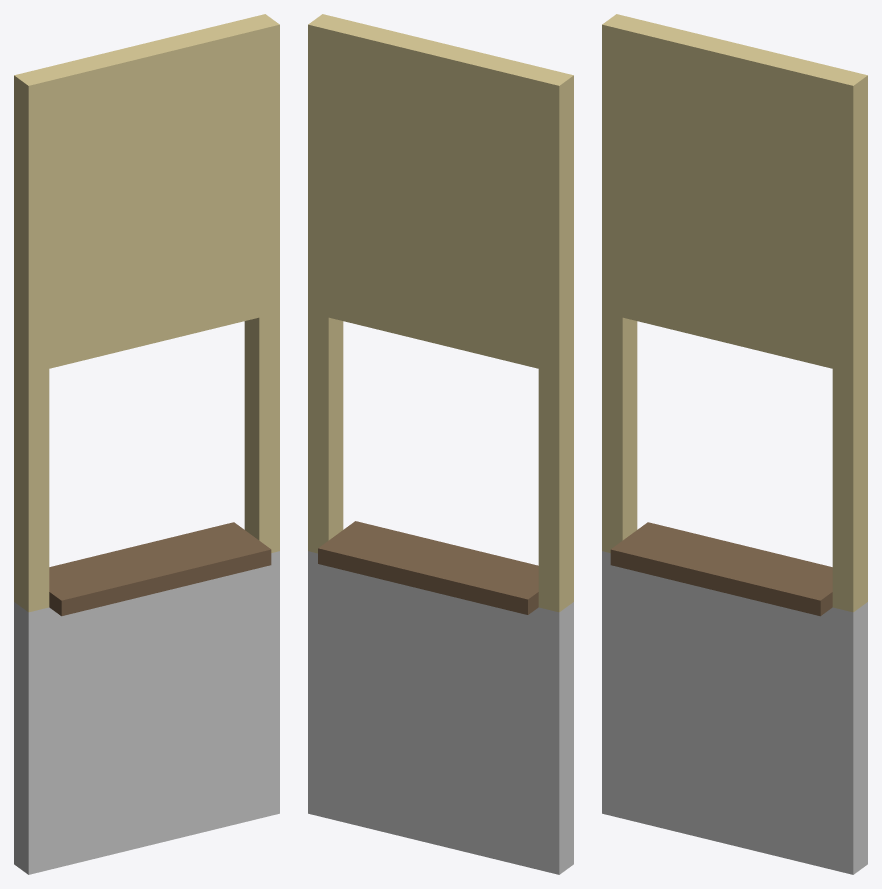
File: Mesh_Wall2Colors_I2.fbx
3 views of the same model, side by side, from view 1: azimuth 30°, elevation 25°; view 2: azimuth 150°, elevation 25°; view 3: azimuth 330°, elevation 25° (orthographic).
Visible parts, largest first — view 1: Mesh_Wall2Colors_I2; view 2: Mesh_Wall2Colors_I2; view 3: Mesh_Wall2Colors_I2.
Part boxes in pixels (x1,y1,x2,y2): Mesh_Wall2Colors_I2: [14, 14, 279, 874]; Mesh_Wall2Colors_I2: [308, 14, 573, 874]; Mesh_Wall2Colors_I2: [602, 14, 867, 874].
Bounding box in the file's own units: 1 × 3 × 0.2574.
